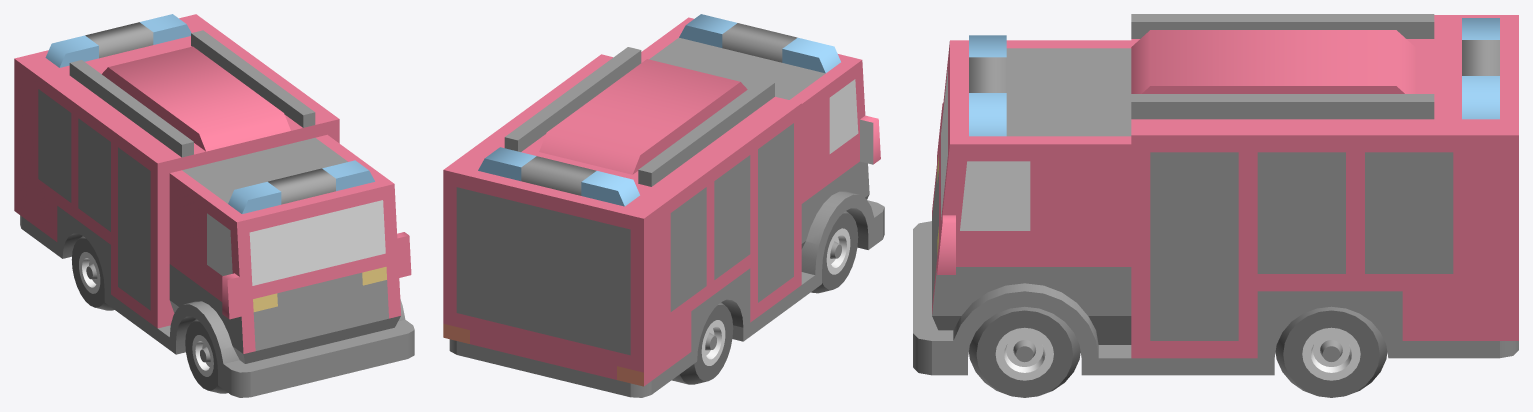
File: firetruck.fbx
The picture shows the model from 3 angles, left to right: view 1: azimuth 30°, elevation 25°; view 2: azimuth 150°, elevation 25°; view 3: azimuth 270°, elevation 25°; orthographic projection. The views are drawn at different scales.
Visible parts, largest first — view 1: firetruck; view 2: firetruck; view 3: firetruck.
Part boxes in pixels (bbox=[...]): firetruck: bbox=[14, 14, 414, 397]; firetruck: bbox=[443, 14, 884, 397]; firetruck: bbox=[913, 14, 1518, 397].
Size of the model in its own units: 150 by 170 by 320.
